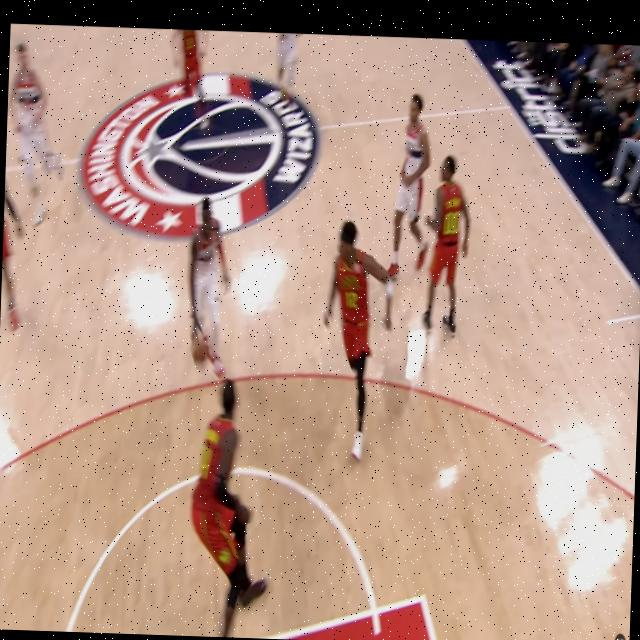no foul: (301, 70, 498, 469)
